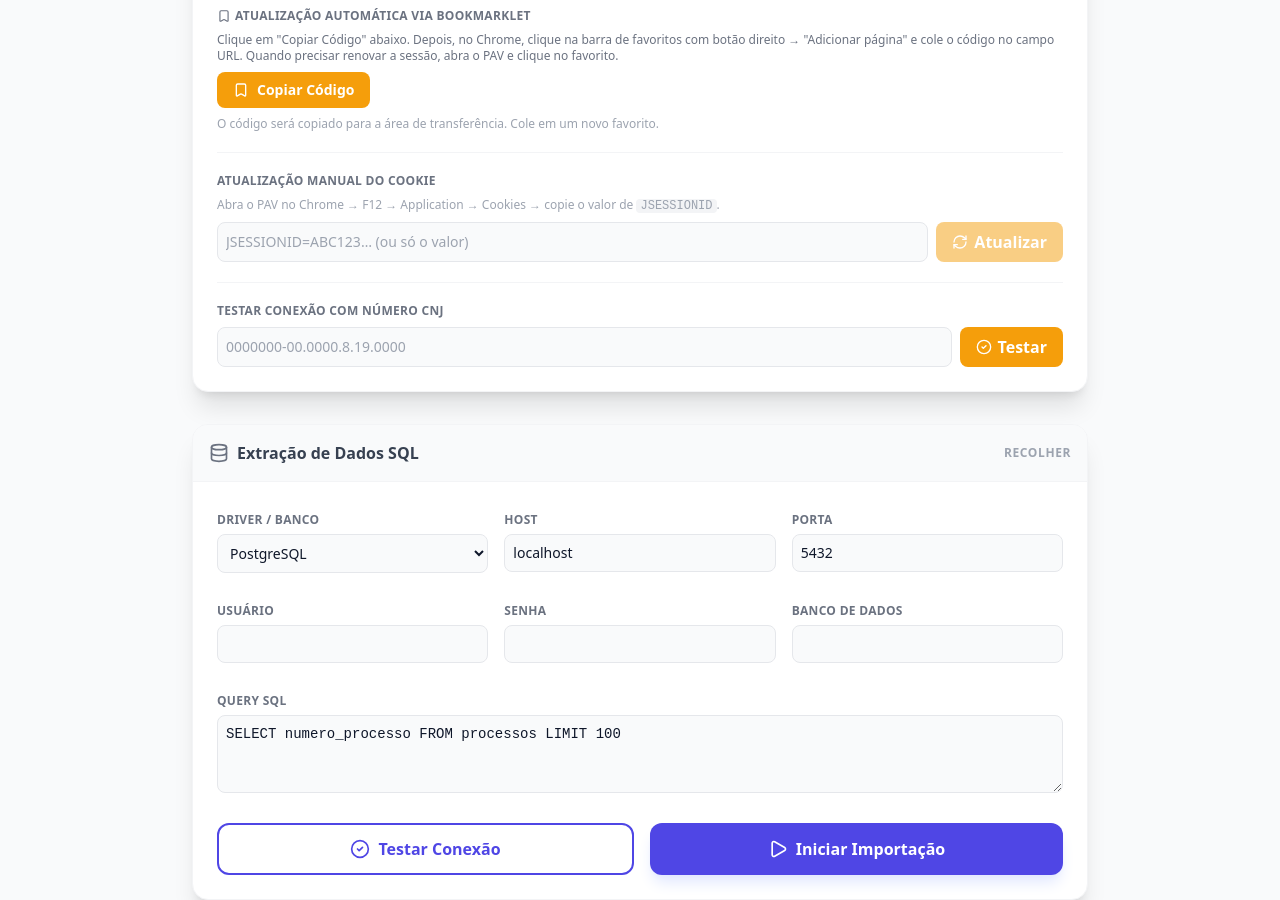
Test: Settings Component › Test Connection Functionality › TC-17: shows loading state during test
(page scrolled)
Click the button "Testar Conexão".
click(426, 849)  # box 217,823 -> 634,875
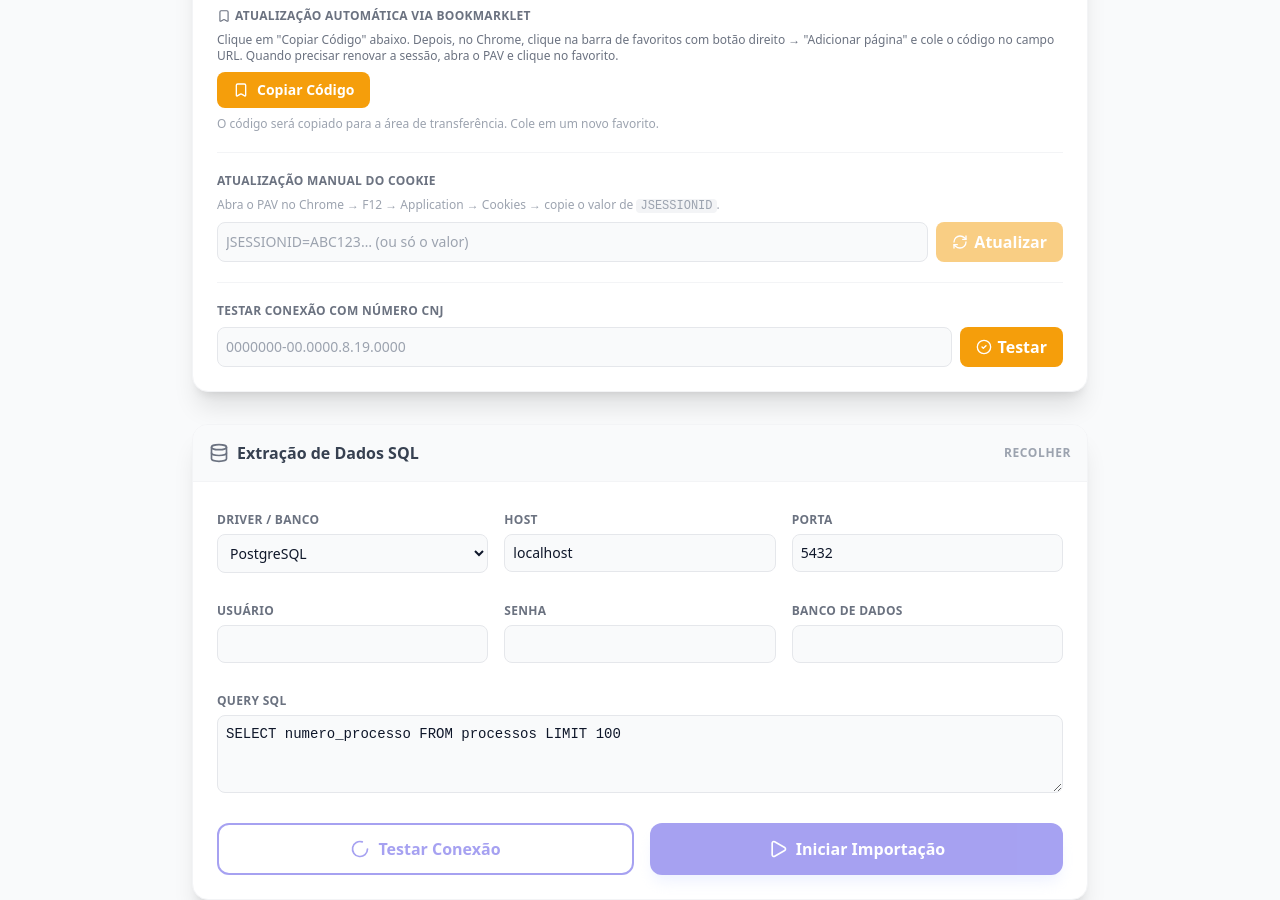
Now the icon with class "animate-spin" is shown, box 350,839 -> 370,859
